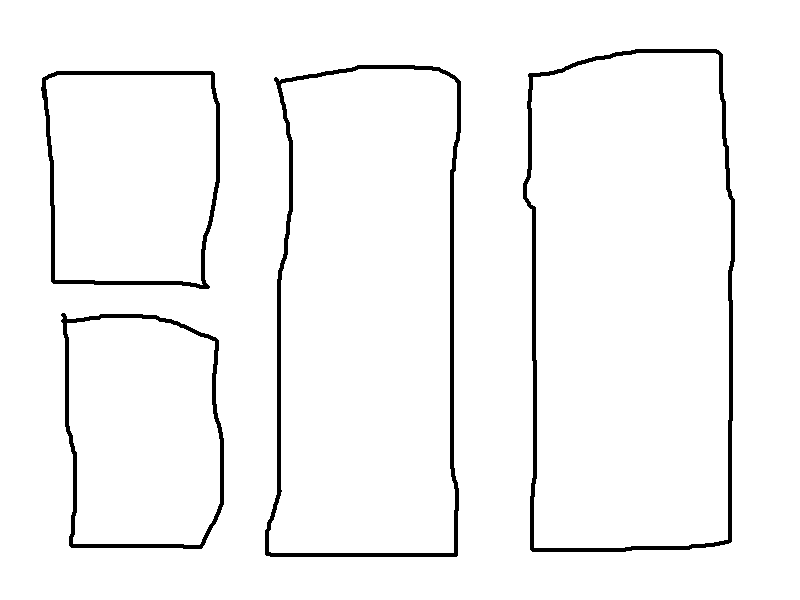rect: (518, 42, 739, 558), (266, 56, 464, 564), (34, 60, 224, 295), (59, 309, 228, 554)
